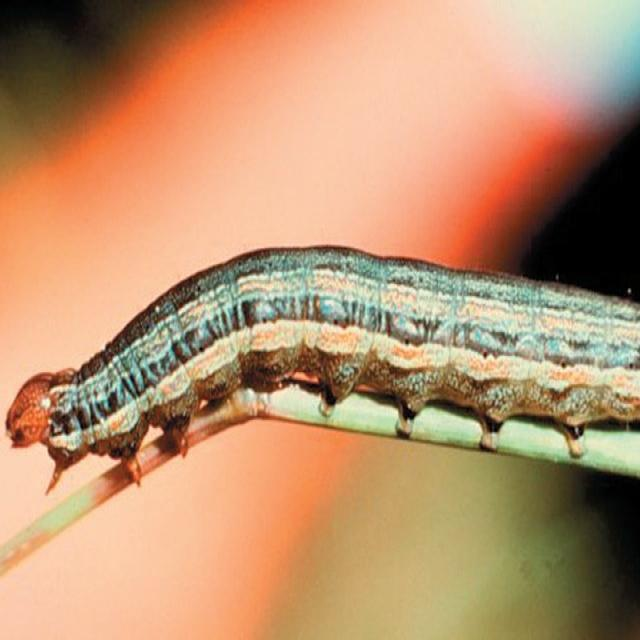pest-armyworm: (7, 230, 639, 493)
